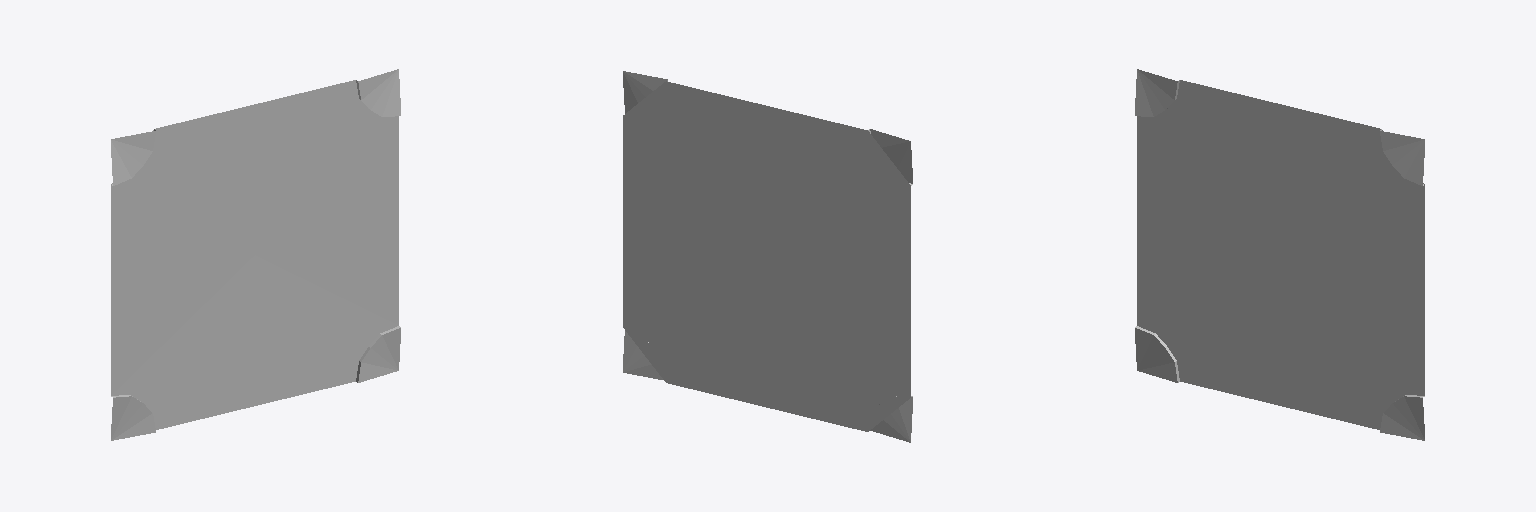
Rendered from igs_road_4_way.obj.
3 renders of one model, left to right at view 1: azimuth 30°, elevation 25°; view 2: azimuth 150°, elevation 25°; view 3: azimuth 330°, elevation 25°, orthographic.
Bounding box in the file's own units: 1 × 1 × 0.015.